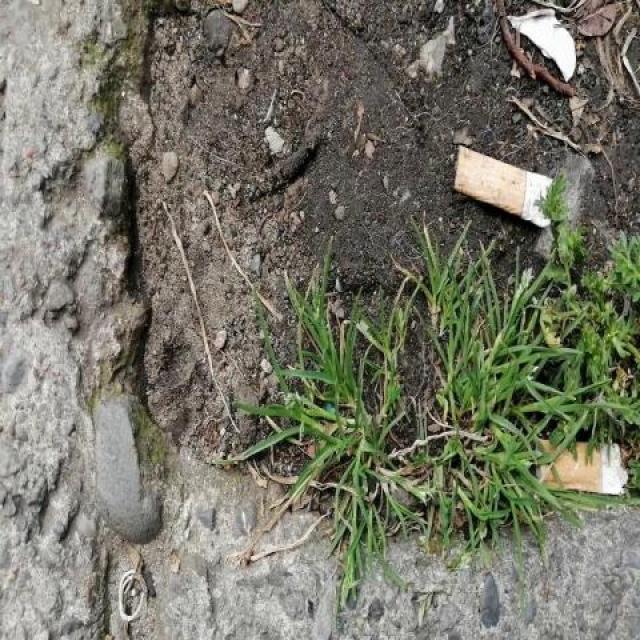non-organic waste: (450, 140, 558, 236), (529, 432, 631, 501)
